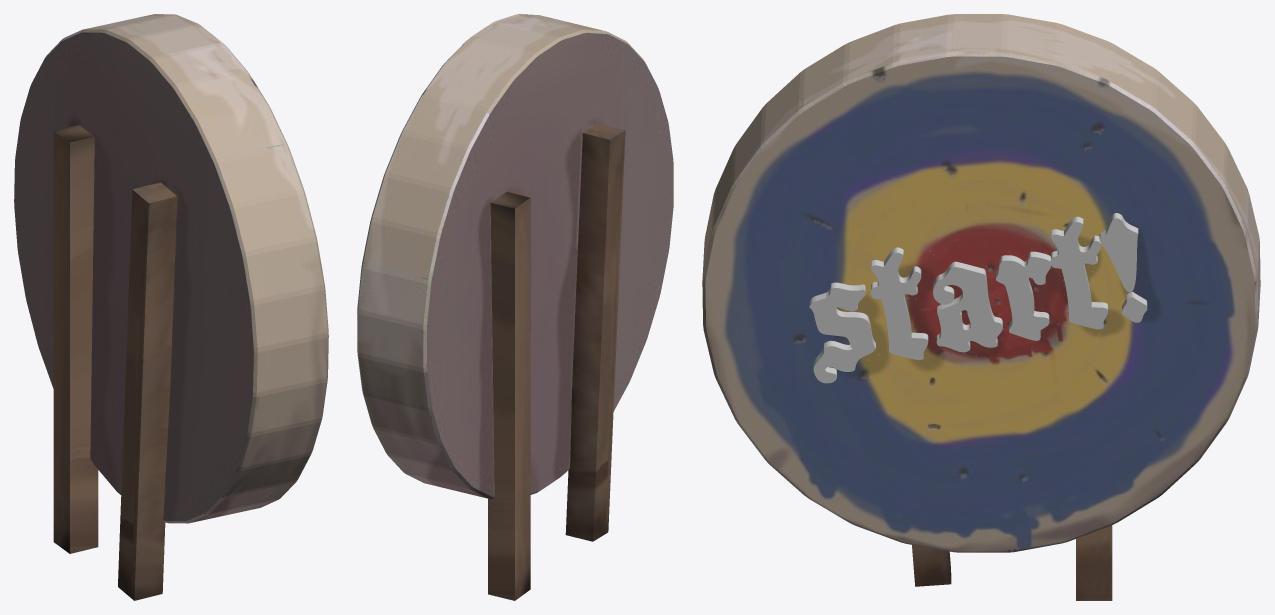
File: shortbow-button.fbx
3 renders of one model, left to right at view 1: azimuth 30°, elevation 25°; view 2: azimuth 150°, elevation 25°; view 3: azimuth 270°, elevation 25°, orthographic. The views are drawn at different scales.
Visible parts, largest first — view 1: Cylinder; view 2: Cylinder; view 3: Cylinder.
Boxes of the visible parts, box(x1,y1,x2,y2) form: Cylinder: box(14, 14, 328, 600); Cylinder: box(357, 14, 673, 600); Cylinder: box(702, 14, 1260, 600).
Bounding box in the file's own units: 71.92 × 258 × 222.
Materials: 2 (1 with a texture image).
